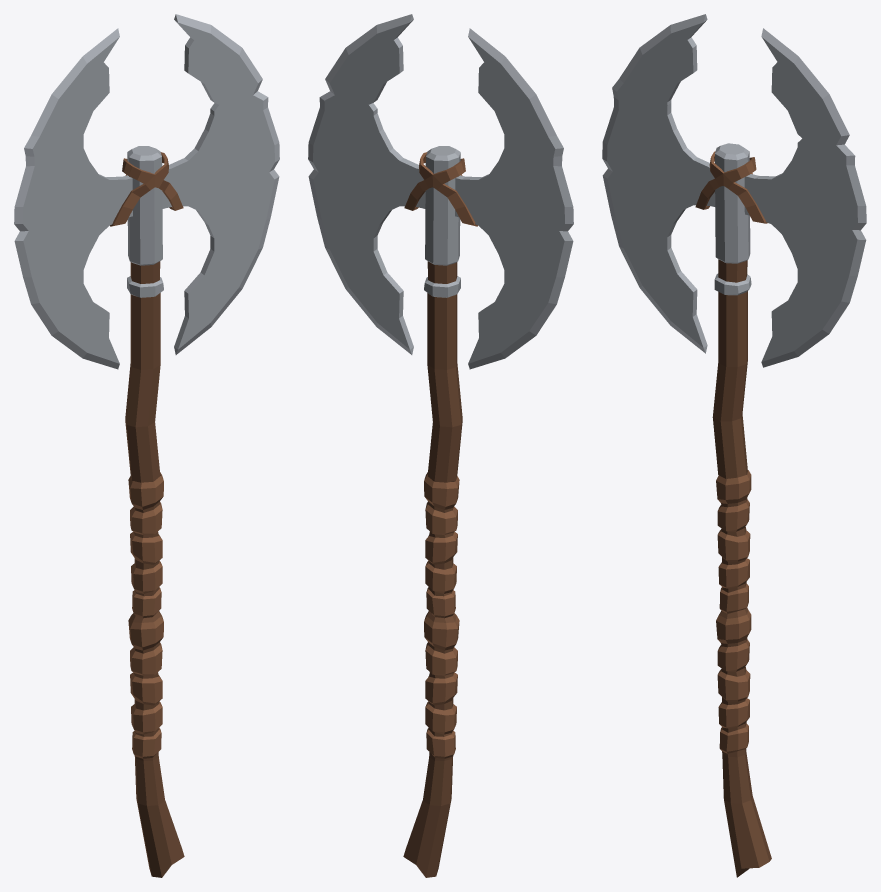
Rendered from axe_double.glb.
3 views of the same model, side by side, from view 1: azimuth 30°, elevation 25°; view 2: azimuth 150°, elevation 25°; view 3: azimuth 330°, elevation 25° (orthographic).
Visible parts, largest first — view 1: Axe_Double; view 2: Axe_Double; view 3: Axe_Double.
Boxes of the visible parts, <box> form: Axe_Double: <box>14,14,279,877</box>; Axe_Double: <box>308,14,573,877</box>; Axe_Double: <box>602,14,866,877</box>.
Bounding box in the file's own units: 2.06 × 6.35 × 0.2609.
